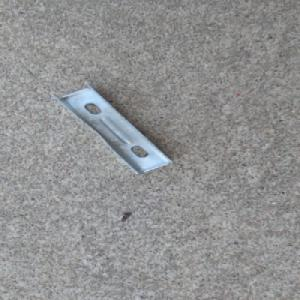ClampPart: (50, 81, 173, 174)
